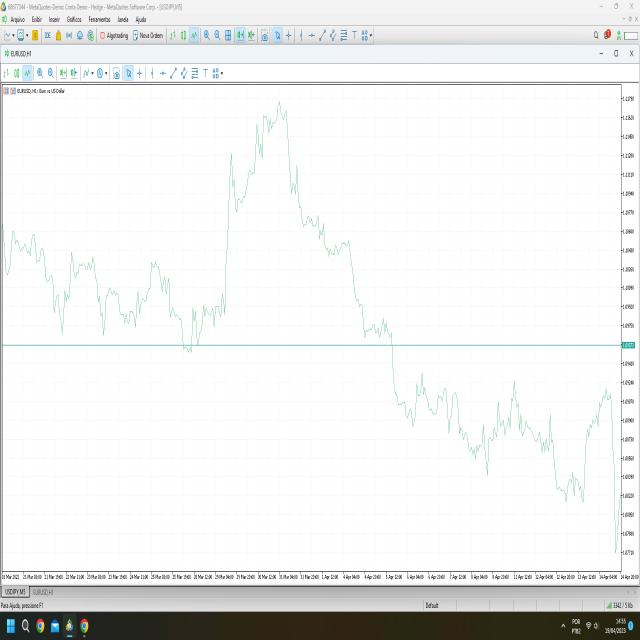bandeira_baixa: (337, 202, 398, 346)
